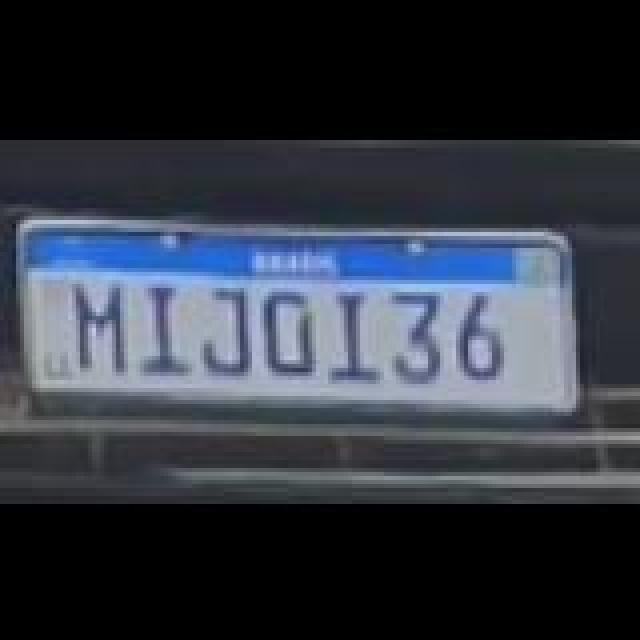3: (392, 290, 448, 382)
6: (454, 290, 506, 382)
D: (264, 288, 320, 376)
I: (330, 290, 382, 382), (138, 282, 190, 374)
J: (206, 284, 258, 372)
M: (72, 282, 128, 374)
